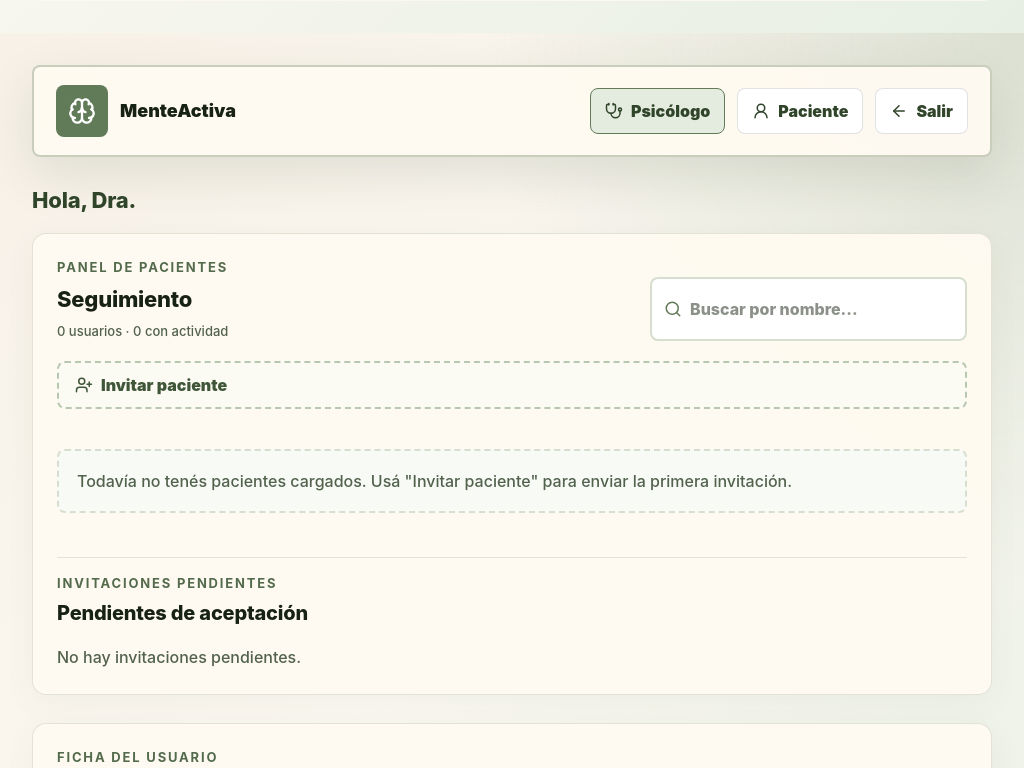
Test: MenteActiva critical flows › invite form surfaces backend errors (email already registered)
(page scrolled)
Click the button "Invitar paciente". click: (164, 385)
box: [57, 361, 967, 409]
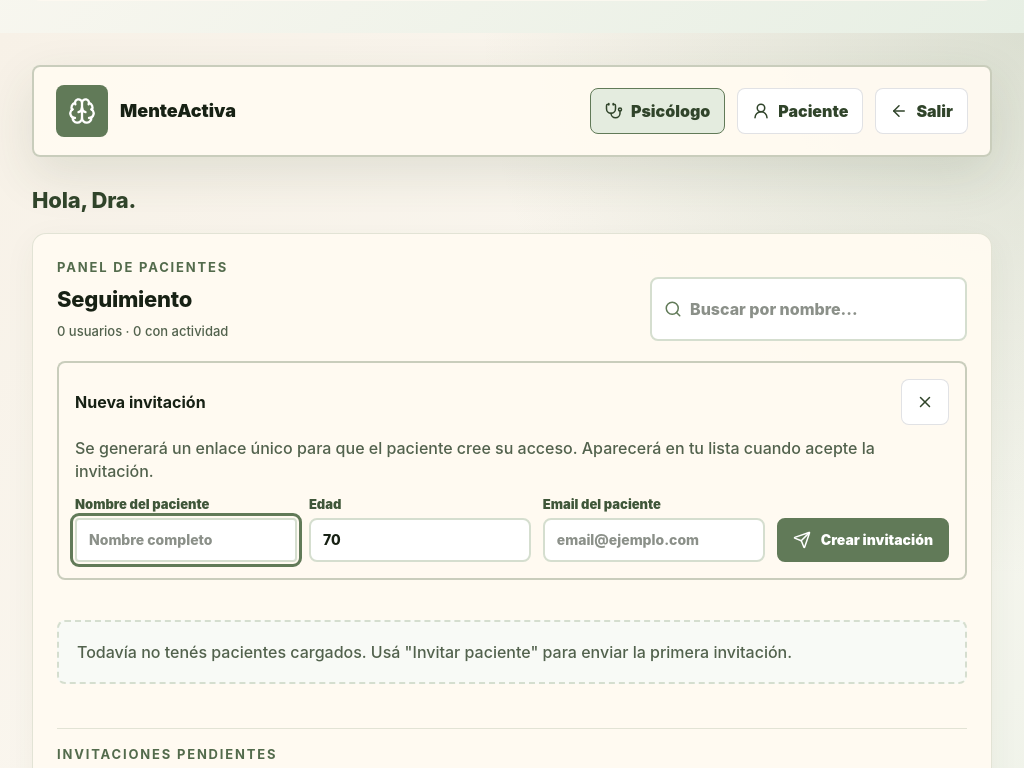
Type "Ana" into the field labelled "Nombre del paciente". click: (186, 540)
box: [75, 518, 297, 562]
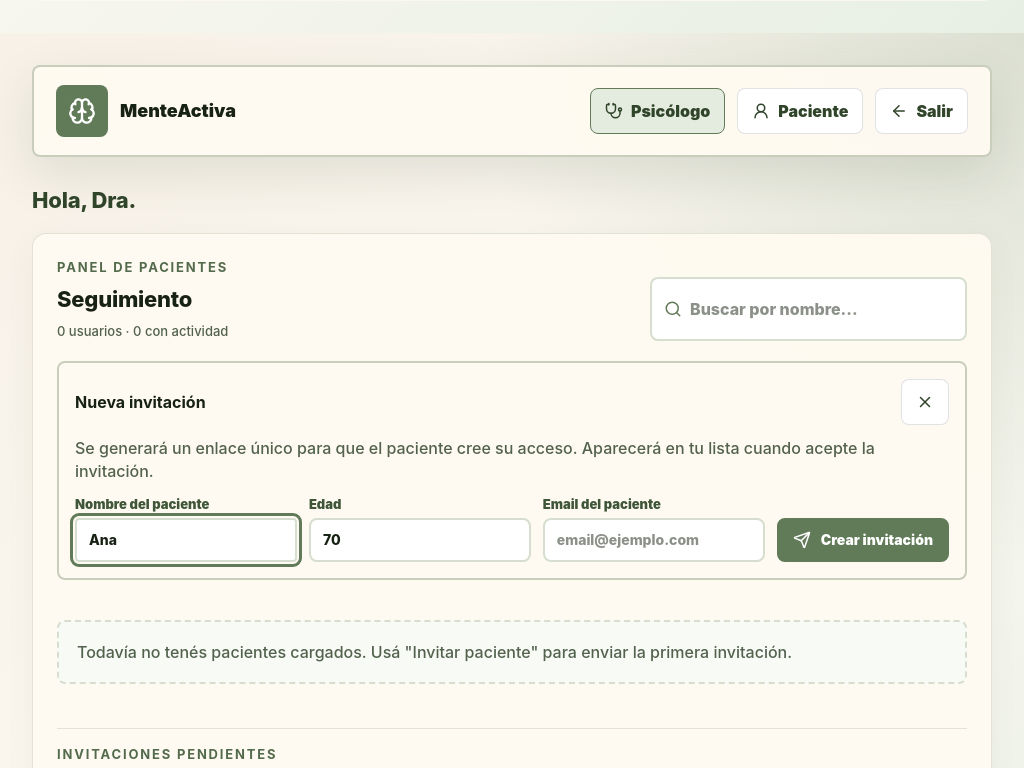
Type "ana@ya-existe.com" into the field labelled "Email del paciente". click: (654, 540)
box: [543, 518, 765, 562]
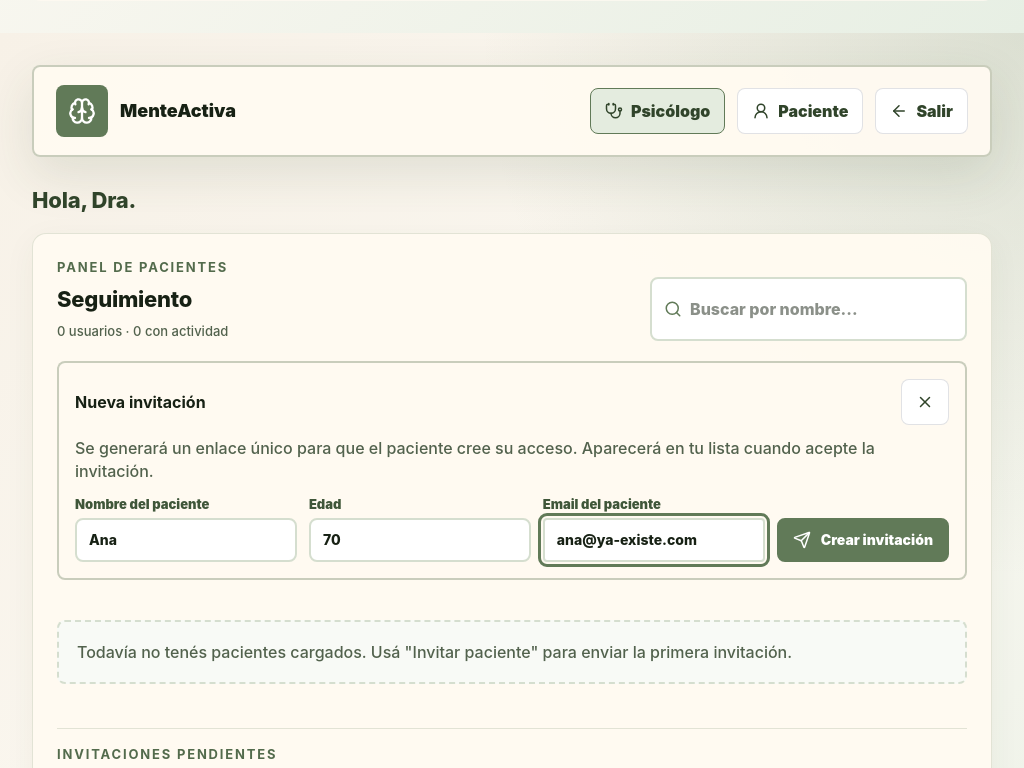
Click the button "Crear invitación". click: (863, 540)
box: [777, 518, 949, 562]
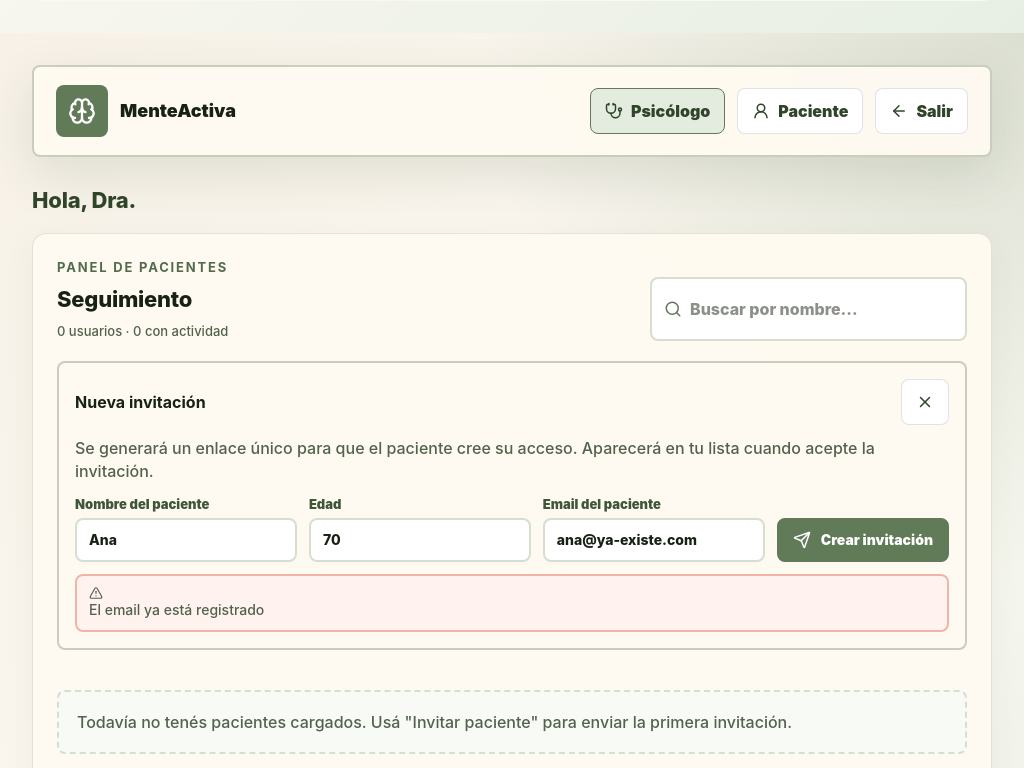
Check: the message shows "ya está registrado", box [89, 601, 264, 618]
